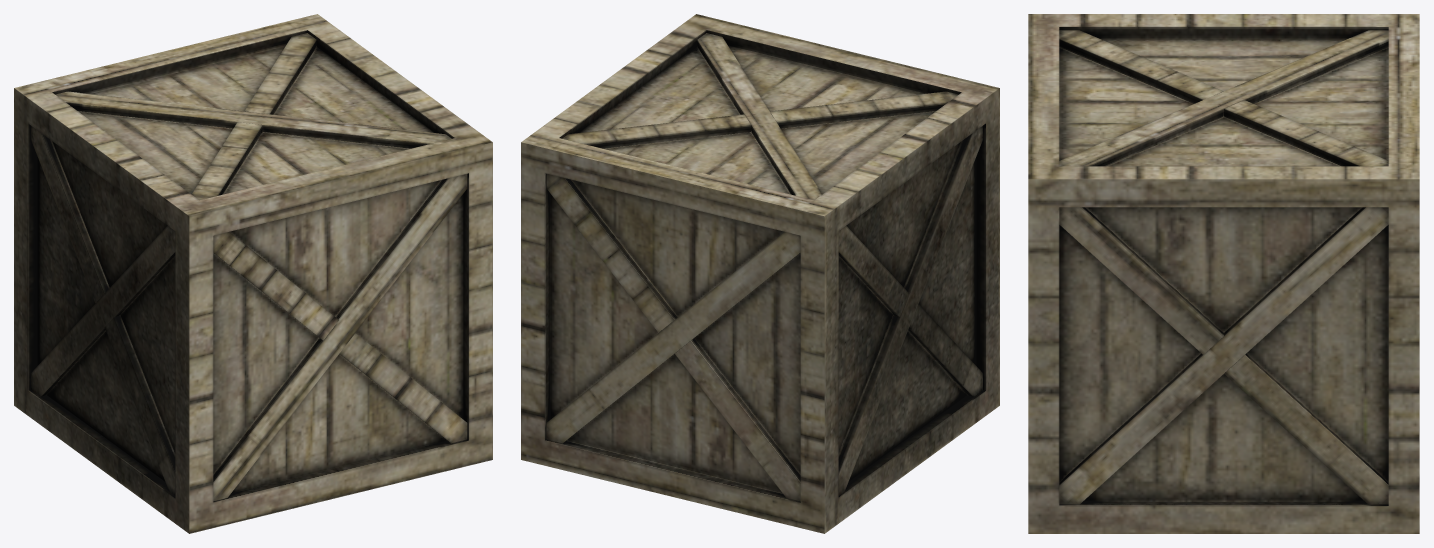
The model's file is Crate_01.FBX.
The picture shows the model from 3 angles, left to right: view 1: azimuth 30°, elevation 25°; view 2: azimuth 150°, elevation 25°; view 3: azimuth 270°, elevation 25°; orthographic projection. The views are drawn at different scales.
Visible parts, largest first — view 1: C_01Unbroken, BC01_92, BC01_25, BC01_49, BC01_80, BC01_84, BC01_63, BC01_39, BC01_30, BC01_55, BC01_82, BC01_94 (+23 smaller); view 2: C_01Unbroken, BC01_92, BC01_07, BC01_08, BC01_49, BC01_47, BC01_94, BC01_03, BC01_82, BC01_45, BC01_63, BC01_15 (+25 smaller); view 3: C_01Unbroken, BC01_92, BC01_74, BC01_61, BC01_78, BC01_65, BC01_11, BC01_94, BC01_34, BC01_75, BC01_40, BC01_63 (+14 smaller).
Boxes of the visible parts, x1,y1,x2,y2 form: C_01Unbroken: (14,14,492,533); BC01_92: (115,45,428,164); BC01_25: (213,236,463,349); BC01_49: (37,162,118,343); BC01_80: (213,310,403,426); BC01_84: (335,174,467,330); BC01_63: (78,87,215,178); BC01_39: (213,323,348,501); BC01_30: (295,204,463,250); BC01_55: (189,352,213,533); BC01_82: (101,220,175,351); BC01_94: (170,129,433,194); C_01Unbroken: (521,14,999,533); BC01_92: (580,59,844,186); BC01_07: (521,142,743,287); BC01_08: (673,279,800,387); BC01_49: (838,218,910,403); BC01_47: (585,453,811,530); BC01_94: (681,45,935,128); BC01_03: (800,269,838,410); BC01_82: (902,141,976,344); BC01_45: (880,275,955,402); BC01_63: (761,118,911,192); BC01_15: (521,296,550,405); C_01Unbroken: (1028,14,1419,533); BC01_92: (1119,72,1387,166); BC01_74: (1124,207,1361,297); BC01_61: (1147,232,1384,344); BC01_78: (1059,312,1380,385); BC01_65: (1208,397,1388,500); BC01_11: (1108,166,1416,207); BC01_94: (1059,38,1149,166); BC01_34: (1028,350,1059,533); BC01_75: (1029,500,1253,533); BC01_40: (1059,207,1152,312); BC01_63: (1145,38,1388,75).
Bounding box in the file's own units: 75.55 × 75.55 × 75.55.
